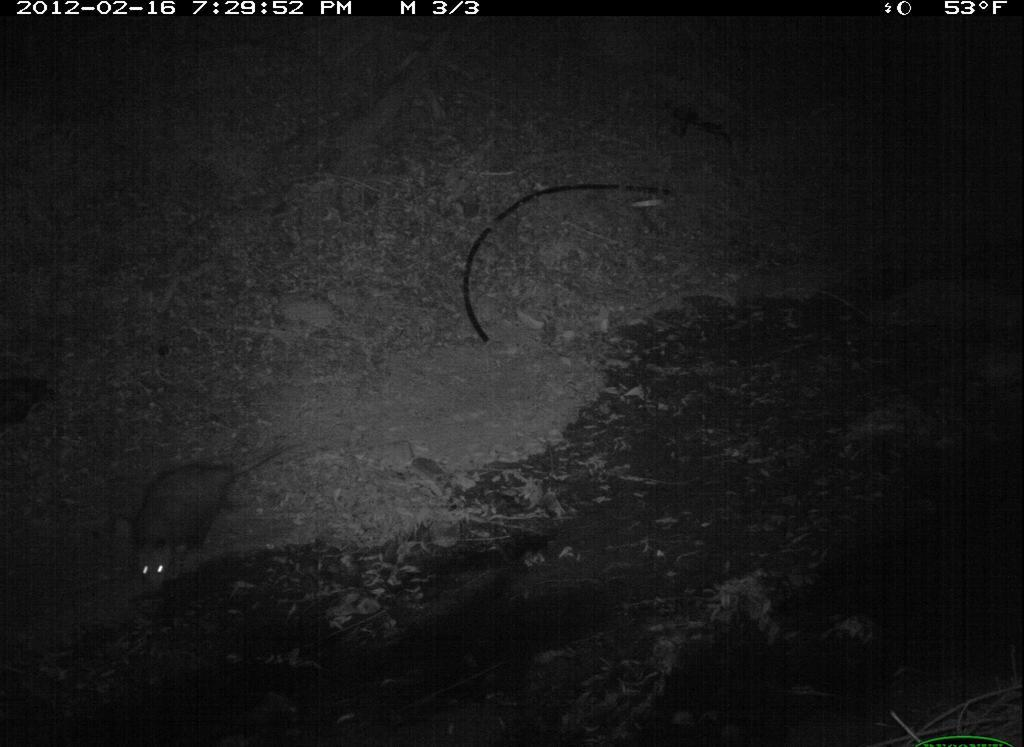opossum: (123, 447, 304, 592)
